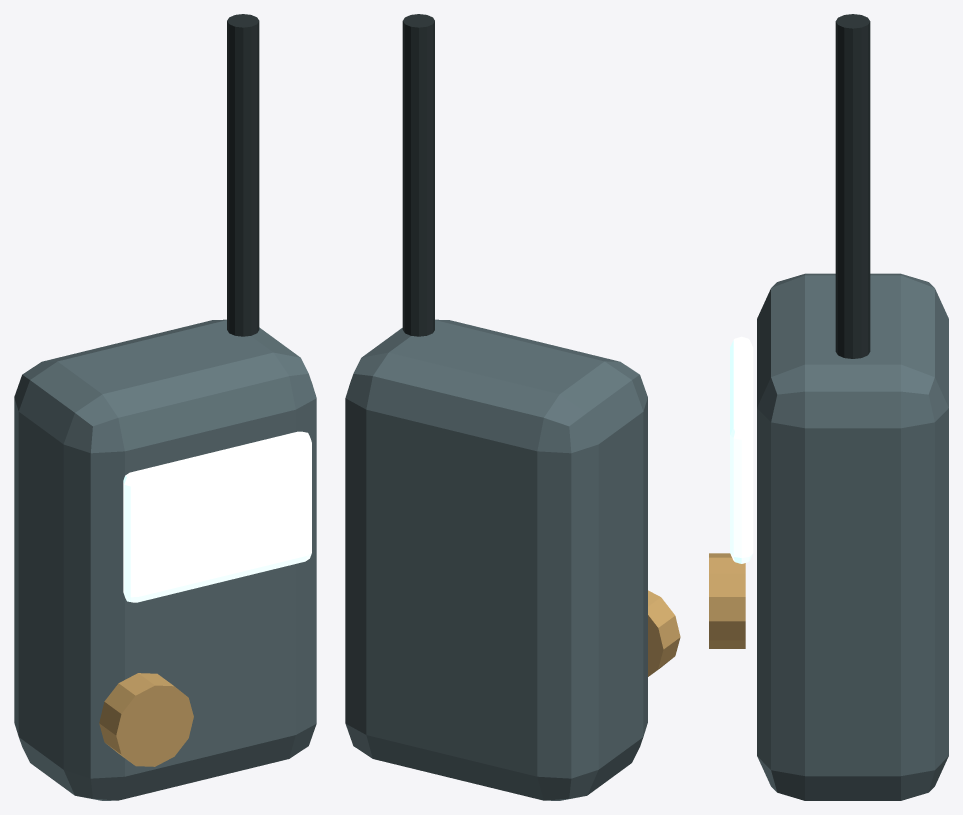
The model's file is detector.glb.
3 renders of one model, left to right at view 1: azimuth 30°, elevation 25°; view 2: azimuth 150°, elevation 25°; view 3: azimuth 270°, elevation 25°, orthographic. The views are drawn at different scales.
Visible parts, largest first — view 1: Detector body, Exposure display, Antenna, Knob; view 2: Detector body, Antenna, Knob; view 3: Detector body, Antenna, Exposure display, Knob.
Boxes of the visible parts, <box> form: Detector body: <box>14,319,316,800</box>; Exposure display: <box>123,431,311,602</box>; Antenna: <box>227,14,259,336</box>; Knob: <box>99,673,193,766</box>; Detector body: <box>345,319,647,800</box>; Antenna: <box>402,14,434,336</box>; Knob: <box>648,590,680,676</box>; Detector body: <box>757,273,948,800</box>; Antenna: <box>835,14,870,358</box>; Exposure display: <box>730,336,753,563</box>; Knob: <box>709,553,745,648</box>.
Size of the model in its own units: 0.16 by 0.445 by 0.125.
